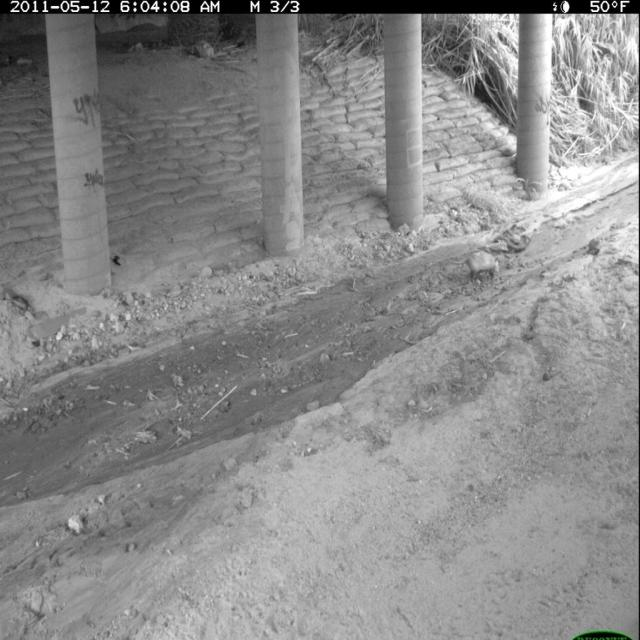opossum: (450, 249, 502, 286)
